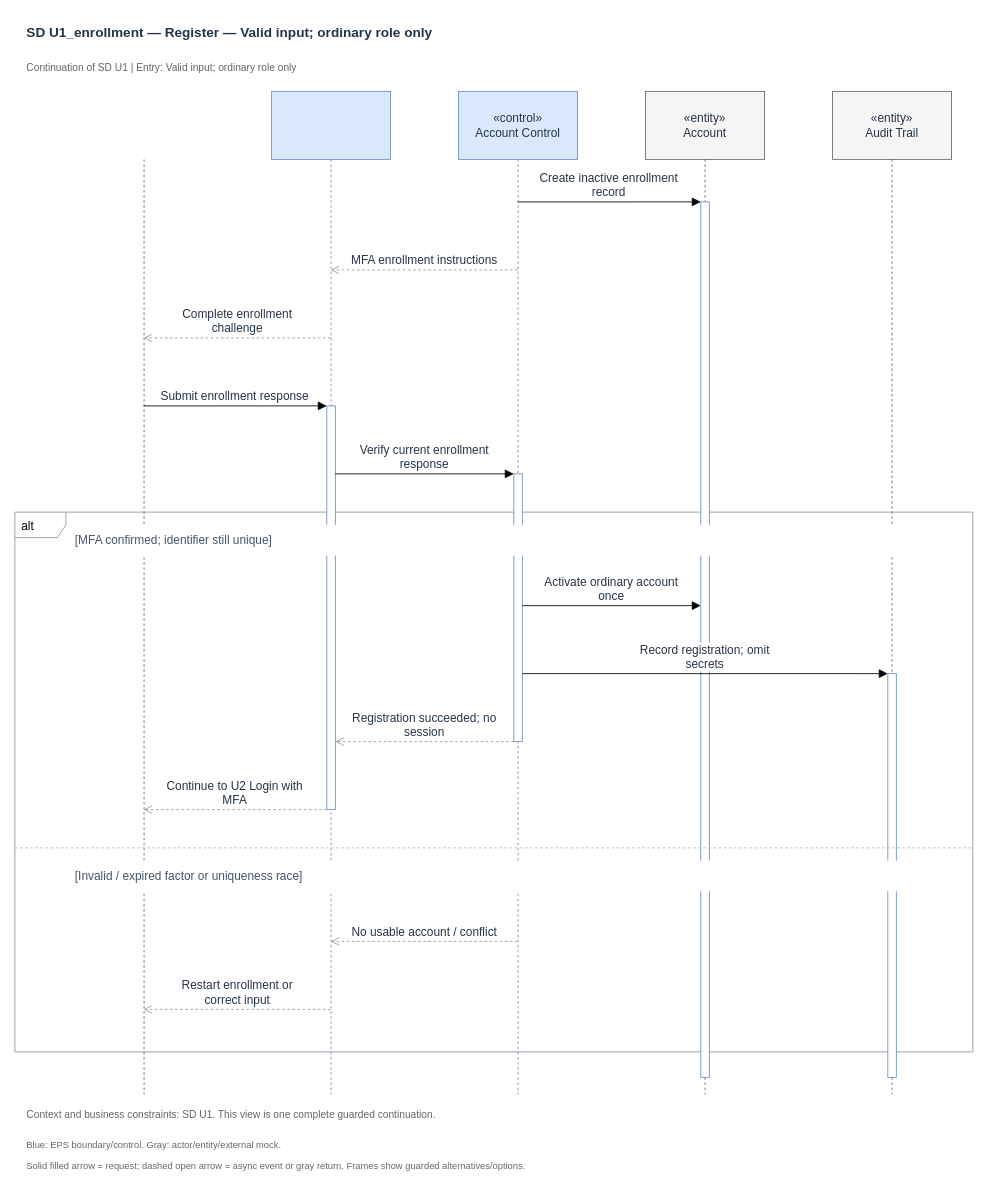
The diagram is 992 pixels wide and 1193 high, and some of its shapes have lost their labels. Here are the shapes that lost their labels. From the top down, the centre of each, then its label:
point (144, 592): Guest
point (331, 592): «boundary» Account UI
